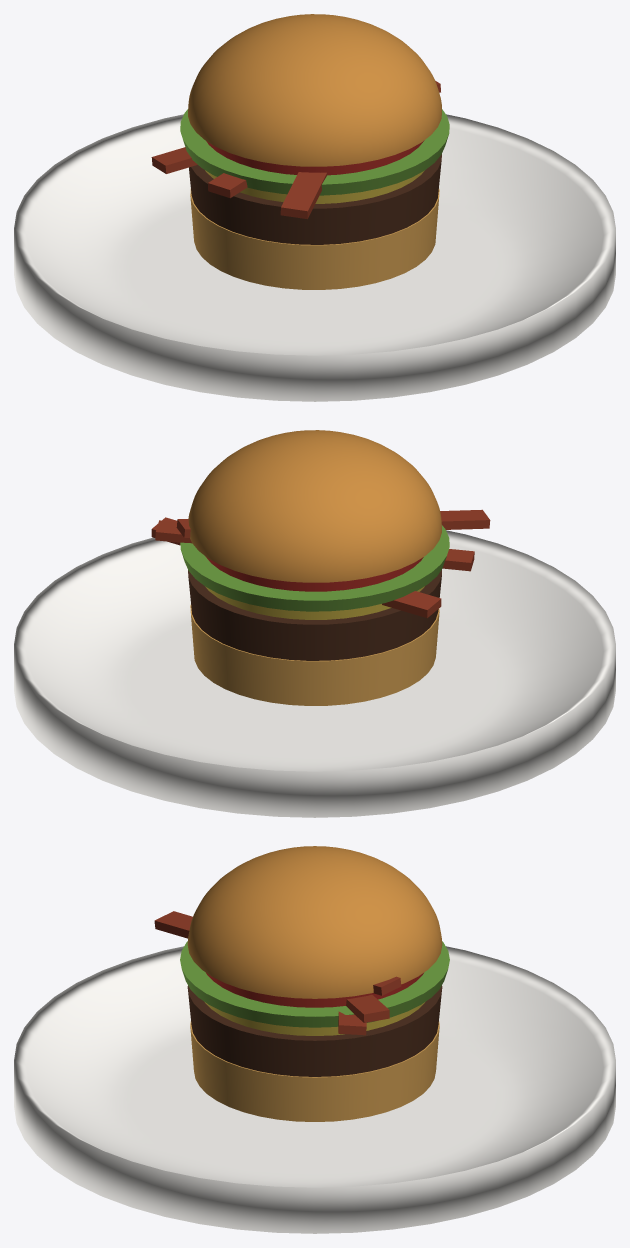
File: burger-bacon-card.glb
3 renders of one model, top to bottom at view 1: azimuth 30°, elevation 25°; view 2: azimuth 150°, elevation 25°; view 3: azimuth 270°, elevation 25°, orthographic.
Bounding box in the file's own units: 0.26 × 0.1166 × 0.26.
